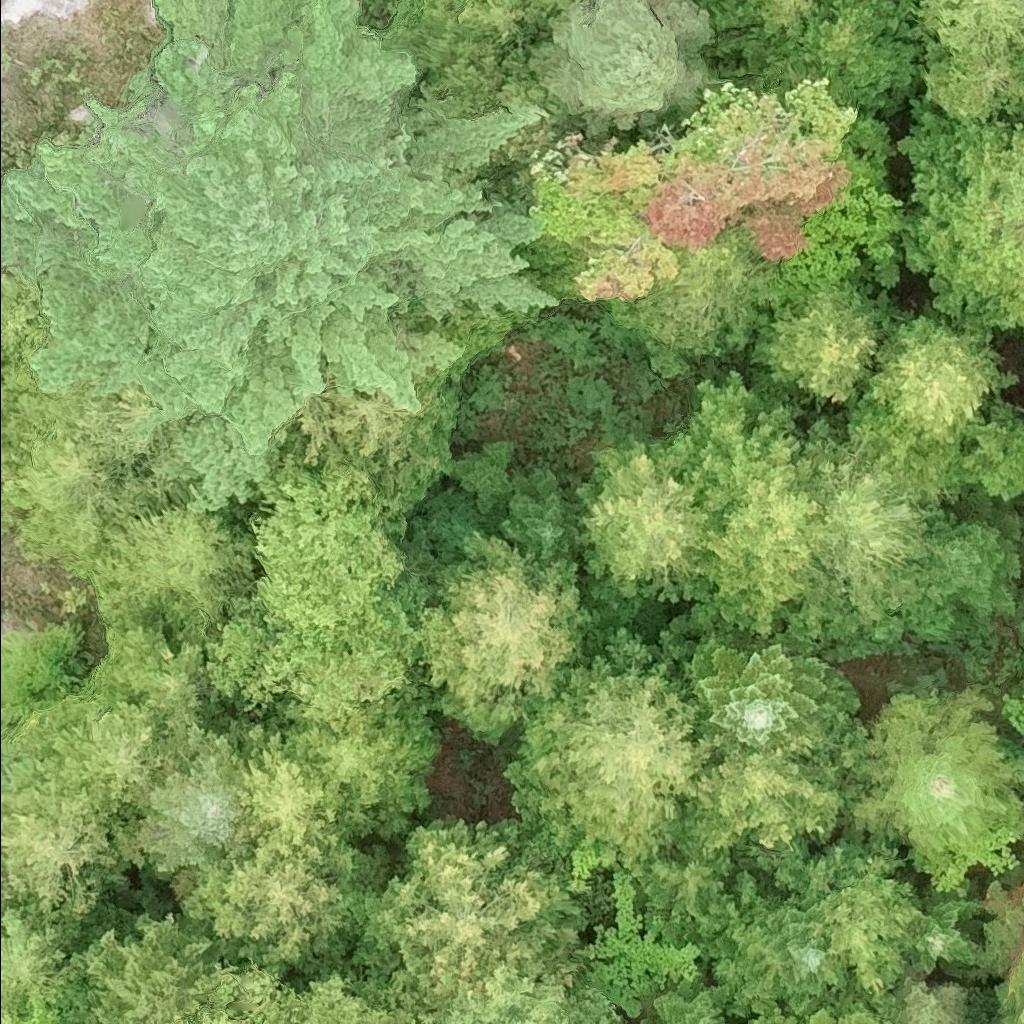crown: (0, 0, 569, 516), (524, 76, 866, 310), (503, 624, 720, 876), (658, 368, 827, 638), (375, 814, 591, 1005), (416, 530, 605, 741), (838, 661, 1023, 875), (207, 565, 434, 732), (242, 425, 409, 644), (793, 421, 951, 622), (896, 96, 1023, 330), (525, 0, 733, 140), (11, 427, 187, 582), (680, 709, 865, 852), (175, 838, 361, 975), (572, 431, 712, 608), (274, 694, 447, 836), (94, 488, 256, 637), (128, 718, 266, 891), (610, 228, 790, 357), (289, 372, 458, 509), (872, 291, 1023, 442), (5, 663, 157, 813), (680, 627, 860, 748), (0, 776, 134, 919), (774, 163, 913, 300), (579, 869, 703, 1019), (747, 281, 890, 405), (840, 392, 980, 503), (235, 727, 357, 853), (806, 875, 924, 997), (84, 911, 210, 1023), (99, 614, 214, 735), (418, 961, 626, 1023), (923, 485, 1021, 616), (177, 965, 397, 1023), (699, 0, 833, 82), (763, 893, 853, 1012), (0, 891, 82, 1013), (919, 33, 1023, 121), (496, 468, 581, 565), (716, 923, 792, 1019), (956, 399, 1023, 501), (903, 897, 986, 975), (932, 827, 1023, 897), (441, 439, 521, 517), (904, 0, 1023, 52), (636, 976, 731, 1023), (999, 588, 1023, 686), (0, 994, 60, 1023), (1001, 691, 1023, 737), (523, 0, 556, 29), (1011, 945, 1023, 1012), (1005, 1008, 1023, 1023), (1018, 328, 1023, 340)
